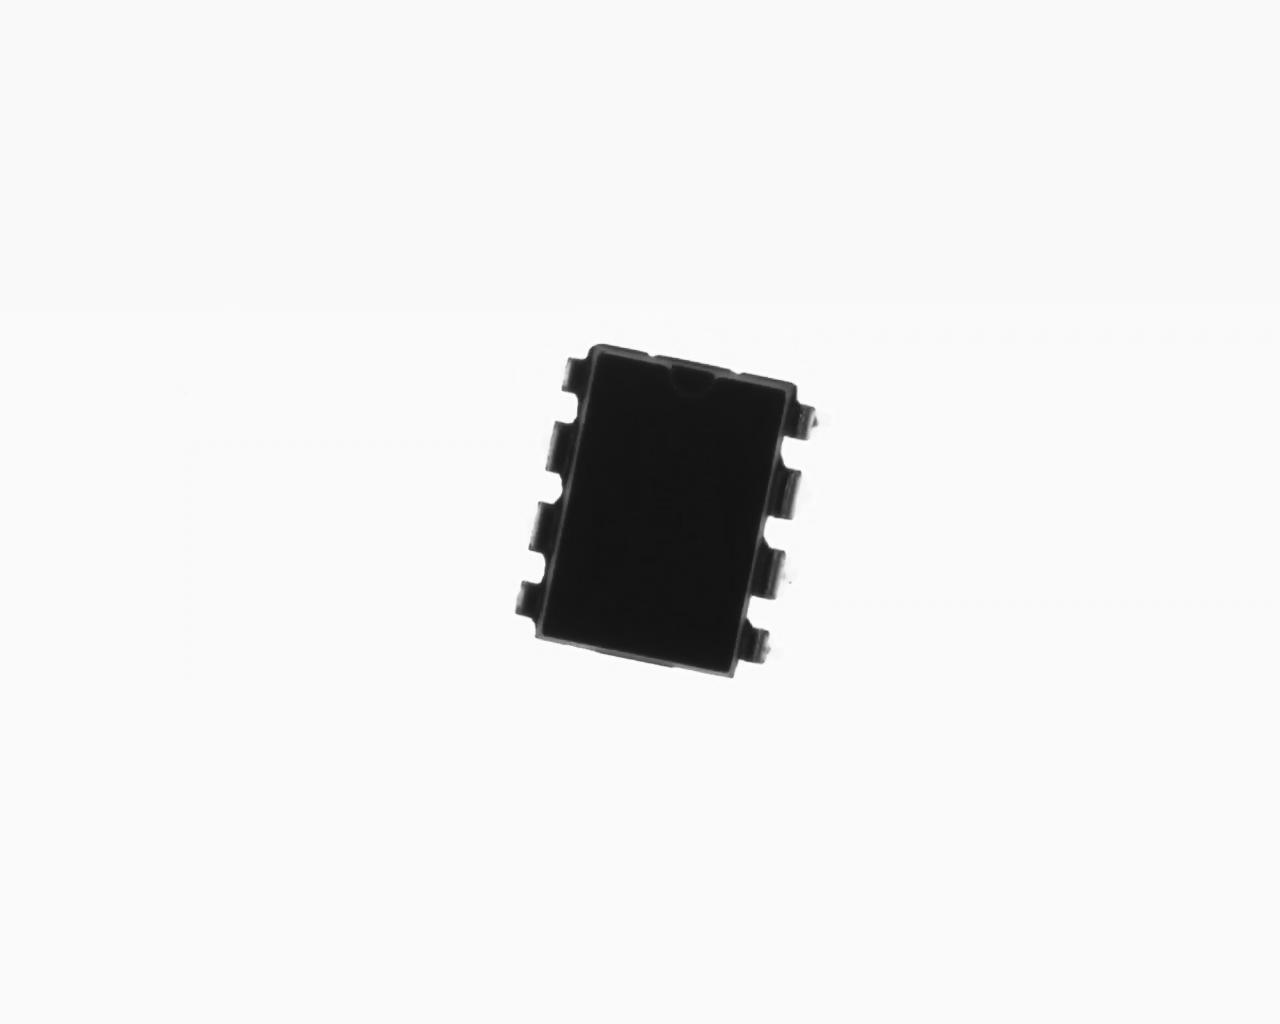Leg: (763, 459, 813, 527), (743, 610, 786, 673), (761, 534, 798, 604), (520, 496, 559, 564), (532, 413, 571, 479), (794, 395, 835, 451), (551, 352, 585, 400), (511, 578, 542, 622)
